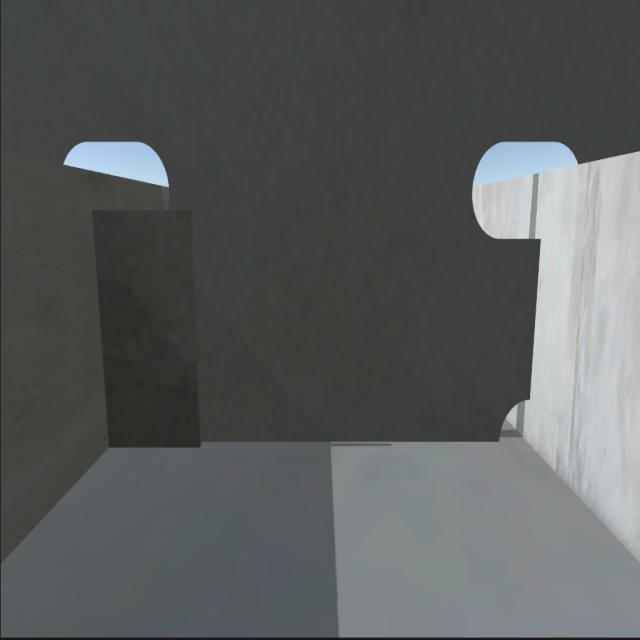fillet_hole: (492, 395, 532, 446)
fillet_yong_jeop_jang: (111, 436, 498, 448)
longi_yong_jeop_jang: (91, 212, 118, 449)
plate_CP01: (93, 213, 206, 446)
